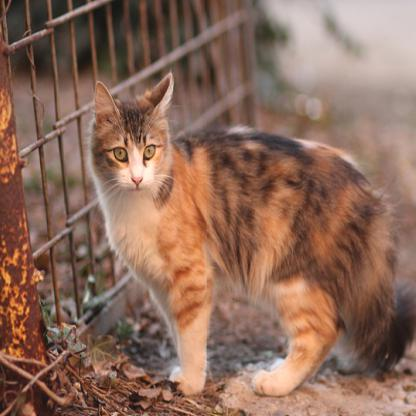cat: (86, 71, 415, 400)
